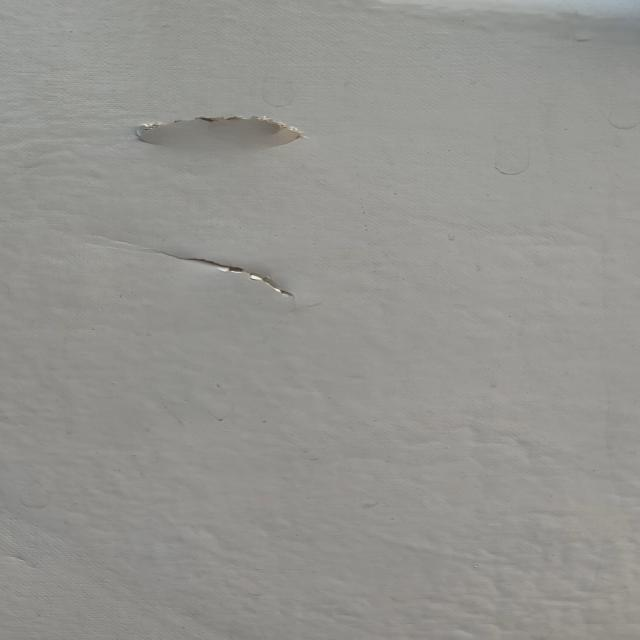Scratches: (153, 237, 300, 310), (116, 99, 312, 153)
